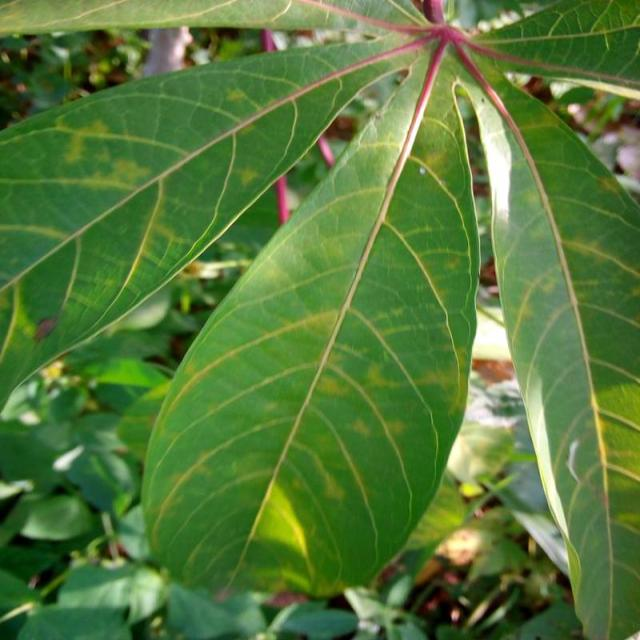cassava leaf: (0, 2, 638, 635), (138, 43, 481, 602), (0, 28, 426, 413), (447, 40, 639, 638)
